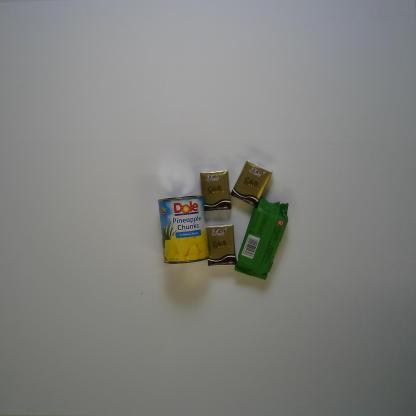Canned Food: (157, 194, 211, 265)
Dessert: (233, 196, 289, 282)
Tissue: (228, 158, 273, 207), (197, 168, 232, 212), (206, 223, 238, 267)
